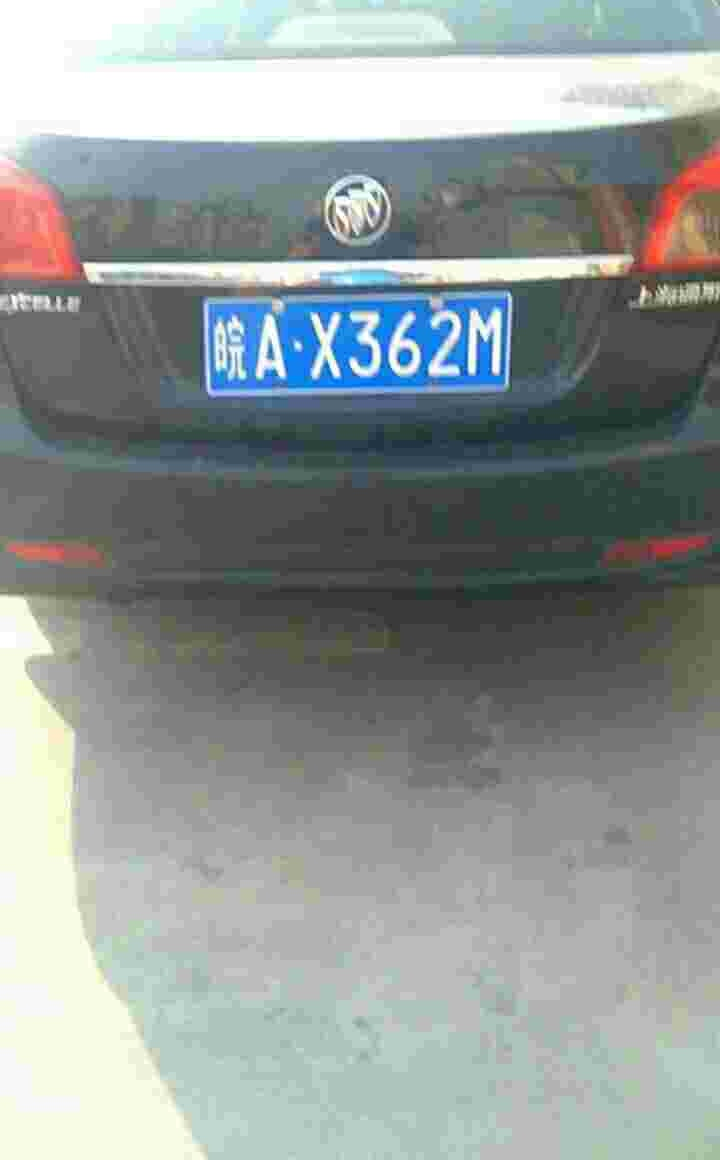license_plate: (191, 292, 508, 394)
